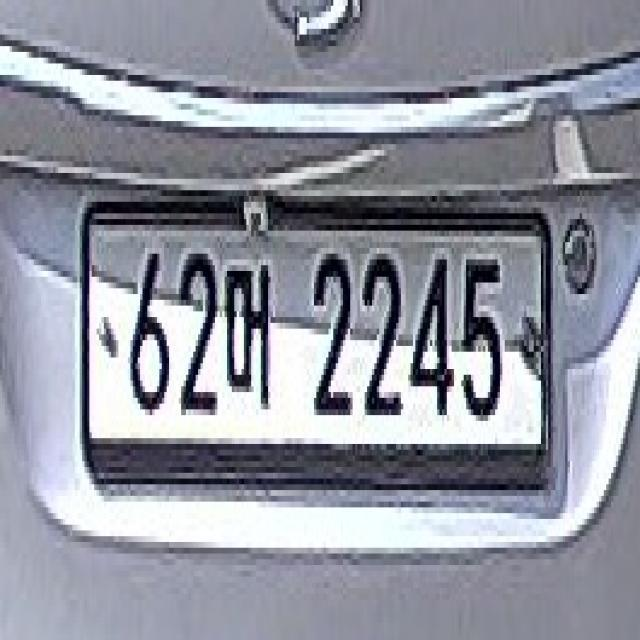2: (307, 236, 354, 429), (360, 244, 407, 436), (178, 248, 221, 426)
4: (412, 243, 454, 431)
5: (458, 245, 506, 429)
6: (124, 246, 173, 413)
license_plate: (68, 161, 563, 521)
meo: (225, 254, 278, 420)
